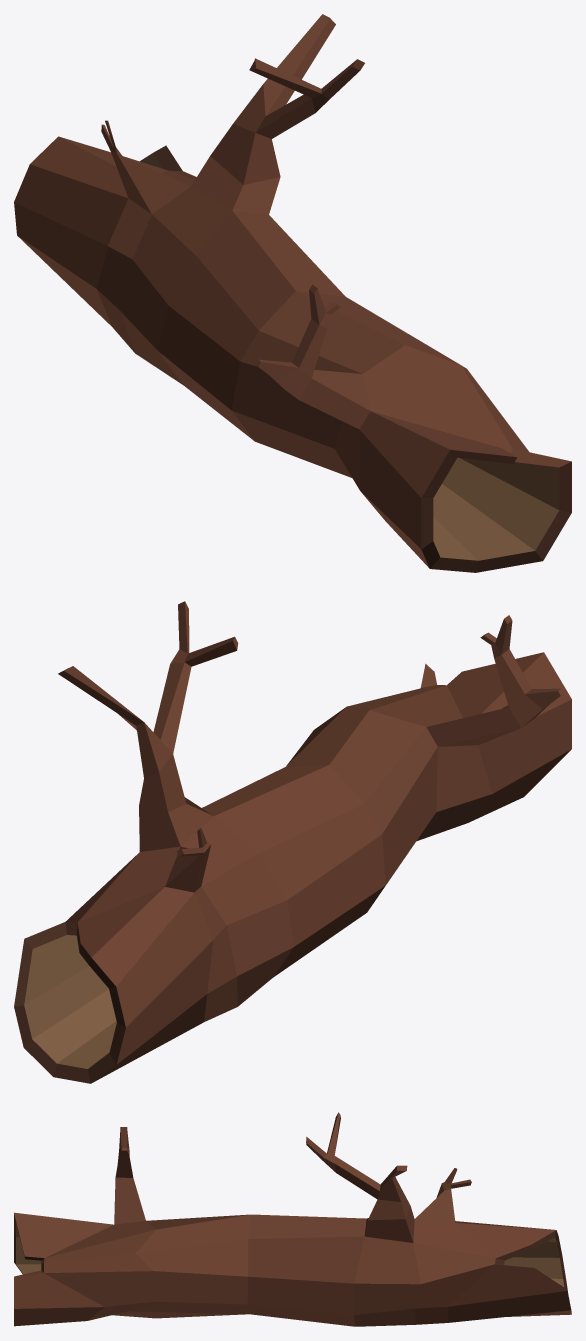
File: Log_03.glb
The picture shows the model from 3 angles, top to bottom: view 1: azimuth 30°, elevation 25°; view 2: azimuth 150°, elevation 25°; view 3: azimuth 270°, elevation 25°; orthographic projection. The views are drawn at different scales.
Parts seen in each view (by area): view 1: Log_03; view 2: Log_03; view 3: Log_03.
Part boxes in pixels (x1,y1,x2,y2): Log_03: (14, 14, 571, 572); Log_03: (14, 601, 571, 1083); Log_03: (14, 1112, 571, 1326).
Size of what is drawn, in the model's own units: 0.8201 by 0.9001 by 2.12.
1 material, 1 textured.
